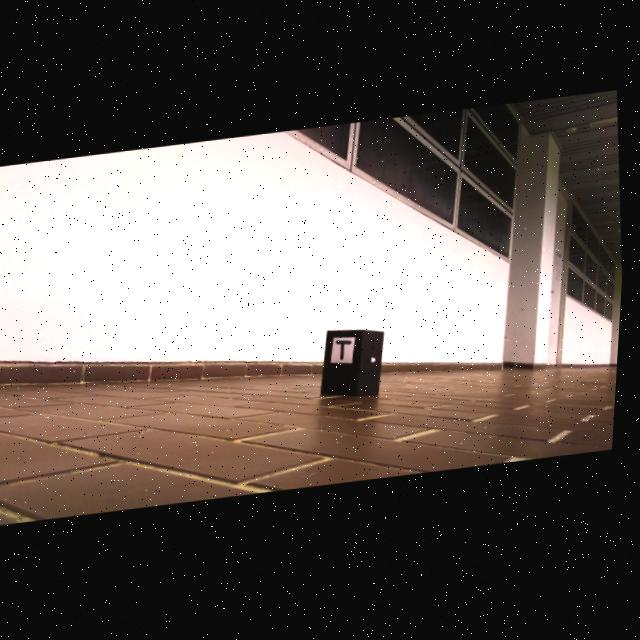T: (340, 343, 356, 363)
